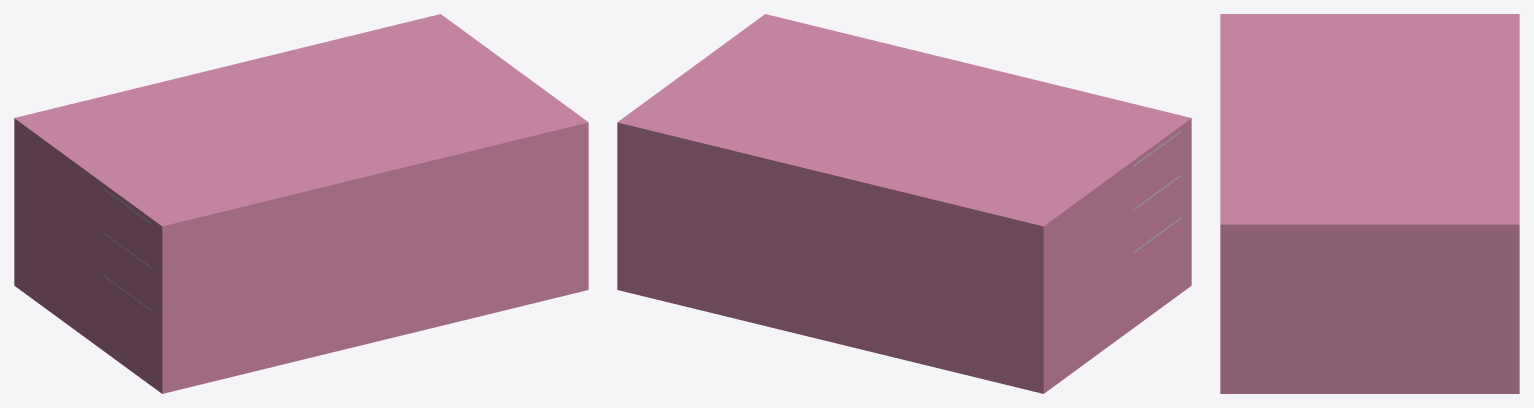
Rendered from ind_bld_02.dae.
The picture shows the model from 3 angles, left to right: view 1: azimuth 30°, elevation 25°; view 2: azimuth 150°, elevation 25°; view 3: azimuth 270°, elevation 25°; orthographic projection.
Parts seen in each view (by area): view 1: Untitled; view 2: Untitled; view 3: Untitled.
Boxes of the visible parts, x1,y1,x2,y2 form: Untitled: (14, 14, 588, 393); Untitled: (617, 14, 1191, 393); Untitled: (1220, 14, 1519, 393).
Bounding box in the file's own units: 31.48 × 18.93 × 11.81.
